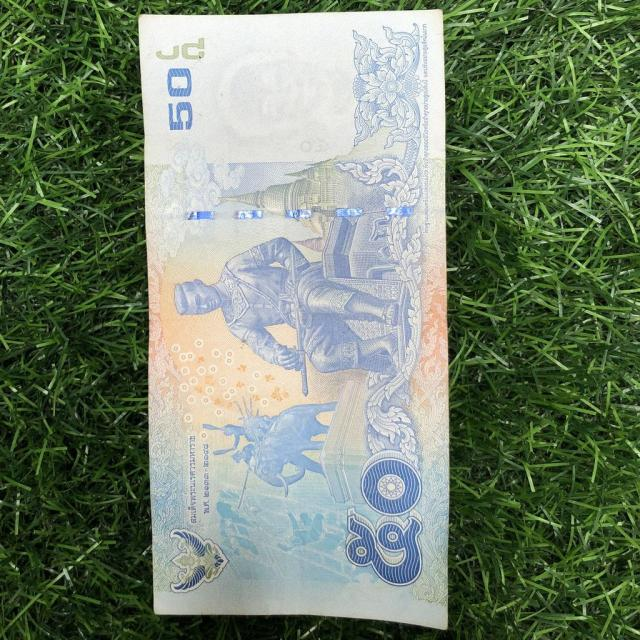THAI50: (138, 10, 451, 636)
